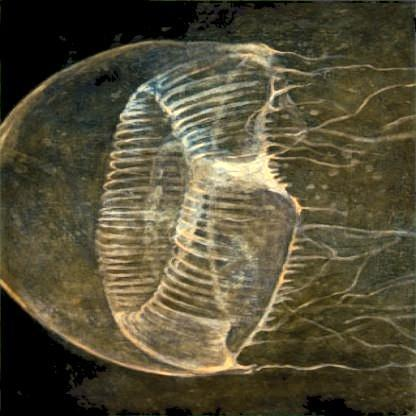FriedEggs: (2, 37, 414, 375)
